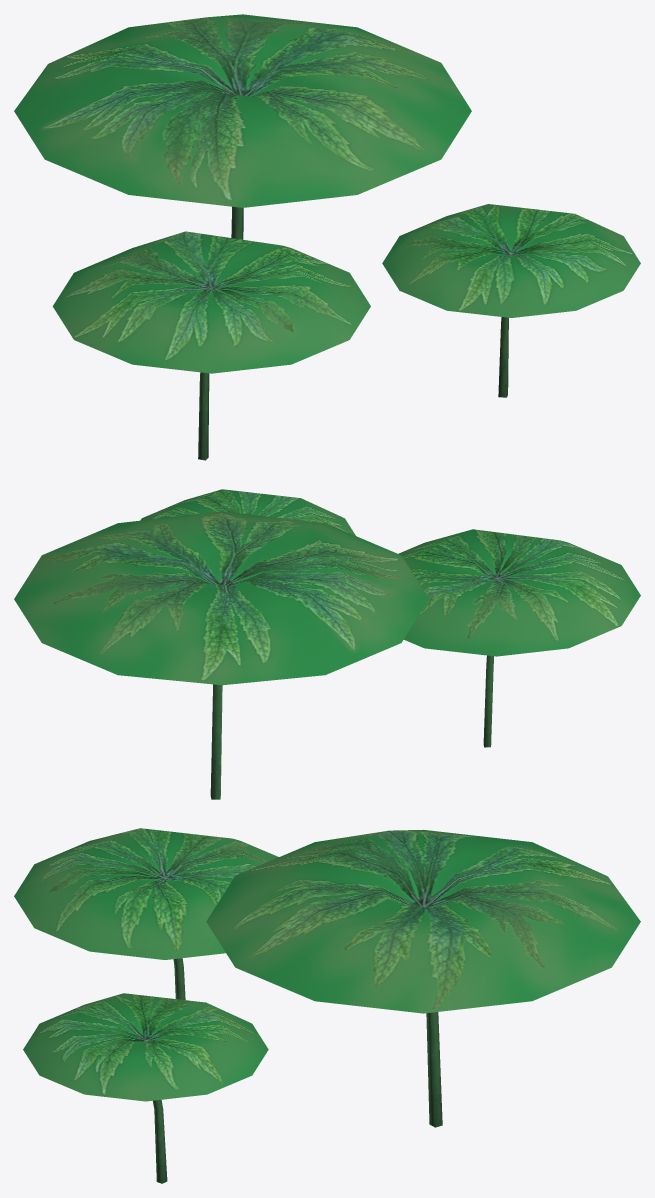
File: Syneilesis palmata_m.FBX
3 renders of one model, top to bottom at view 1: azimuth 30°, elevation 25°; view 2: azimuth 150°, elevation 25°; view 3: azimuth 270°, elevation 25°, orthographic. The views are drawn at different scales.
Visible parts, largest first — view 1: Syneilesis palmata01, Syneilesis palmata02, Syneilesis palmata03; view 2: Syneilesis palmata01, Syneilesis palmata02, Syneilesis palmata03; view 3: Syneilesis palmata01, Syneilesis palmata02, Syneilesis palmata03.
Part boxes in pixels (bbox=[...]): Syneilesis palmata01: bbox=[14, 14, 471, 239]; Syneilesis palmata02: bbox=[52, 231, 370, 460]; Syneilesis palmata03: bbox=[382, 204, 640, 397]; Syneilesis palmata01: bbox=[14, 511, 428, 799]; Syneilesis palmata02: bbox=[398, 529, 640, 747]; Syneilesis palmata03: bbox=[140, 489, 355, 535]; Syneilesis palmata01: bbox=[206, 829, 640, 1127]; Syneilesis palmata02: bbox=[14, 828, 278, 999]; Syneilesis palmata03: bbox=[23, 993, 268, 1183].
Bounding box in the file's own units: 98.35 × 44.04 × 104.
